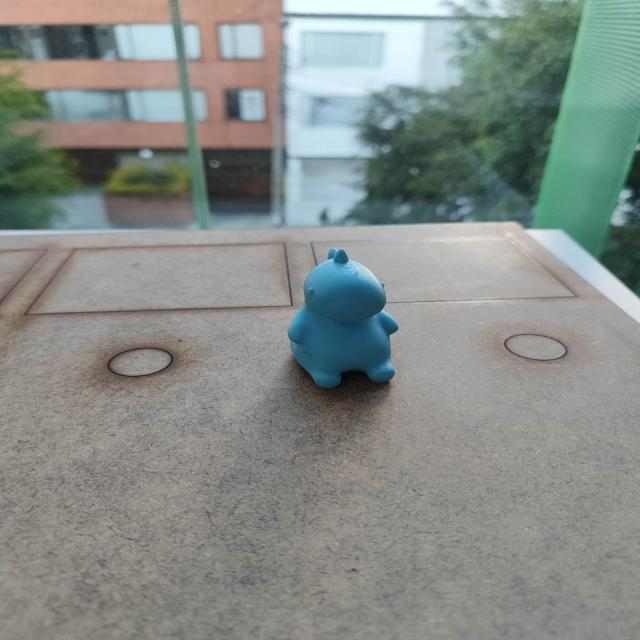DINO: (260, 243, 414, 404)
